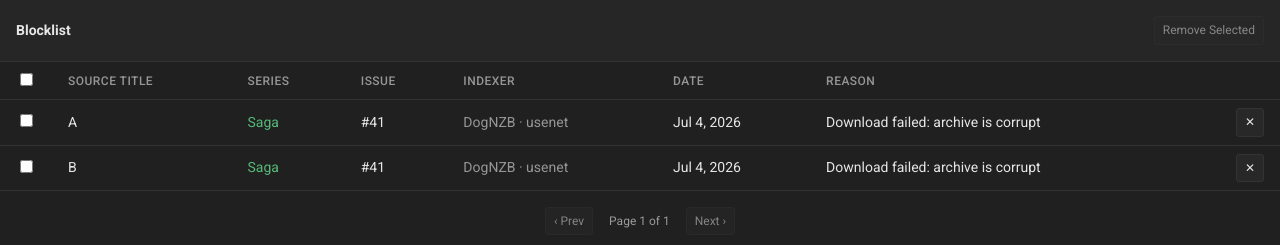
it: FRG-UI-017: blocklist screen › FRG-UI-017 — select-all selects every row on the page and full bulk success reports nothing
Expected: the row with test id "blocklist-row-21" is shown, [0,100,1279,145]
Step 1. Click the checkbox named "Select all blocklist entries" → (26, 80), box [20,73,33,86]
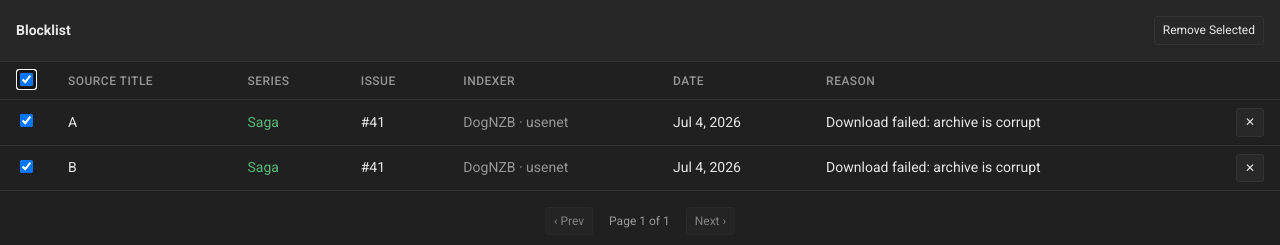
Step 2. Click the button "Remove Selected" → (1209, 30), box [1154,16,1264,45]
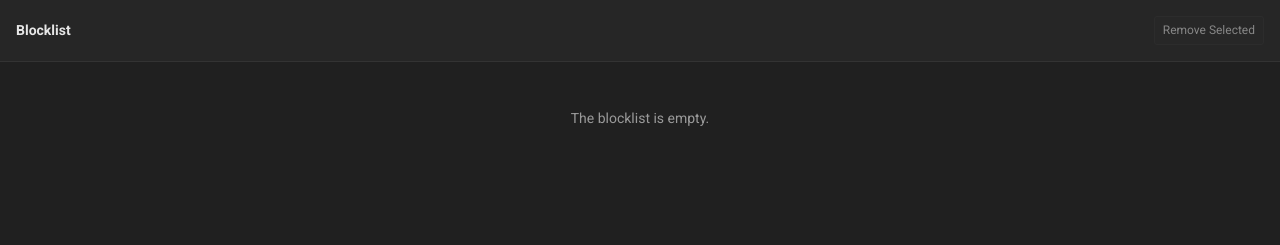
Result: the text "The blocklist is empty." is shown at [571,110,709,126]
